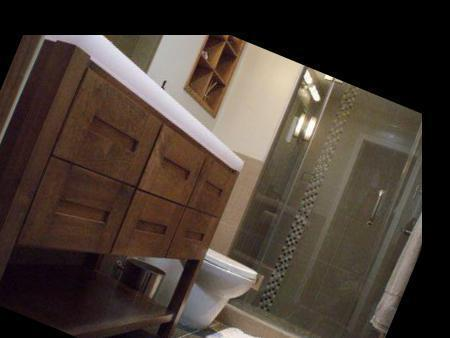Bote de Basura: (99, 250, 171, 333)
Ducha: (200, 68, 450, 338)
Sanitario: (124, 169, 283, 338)
